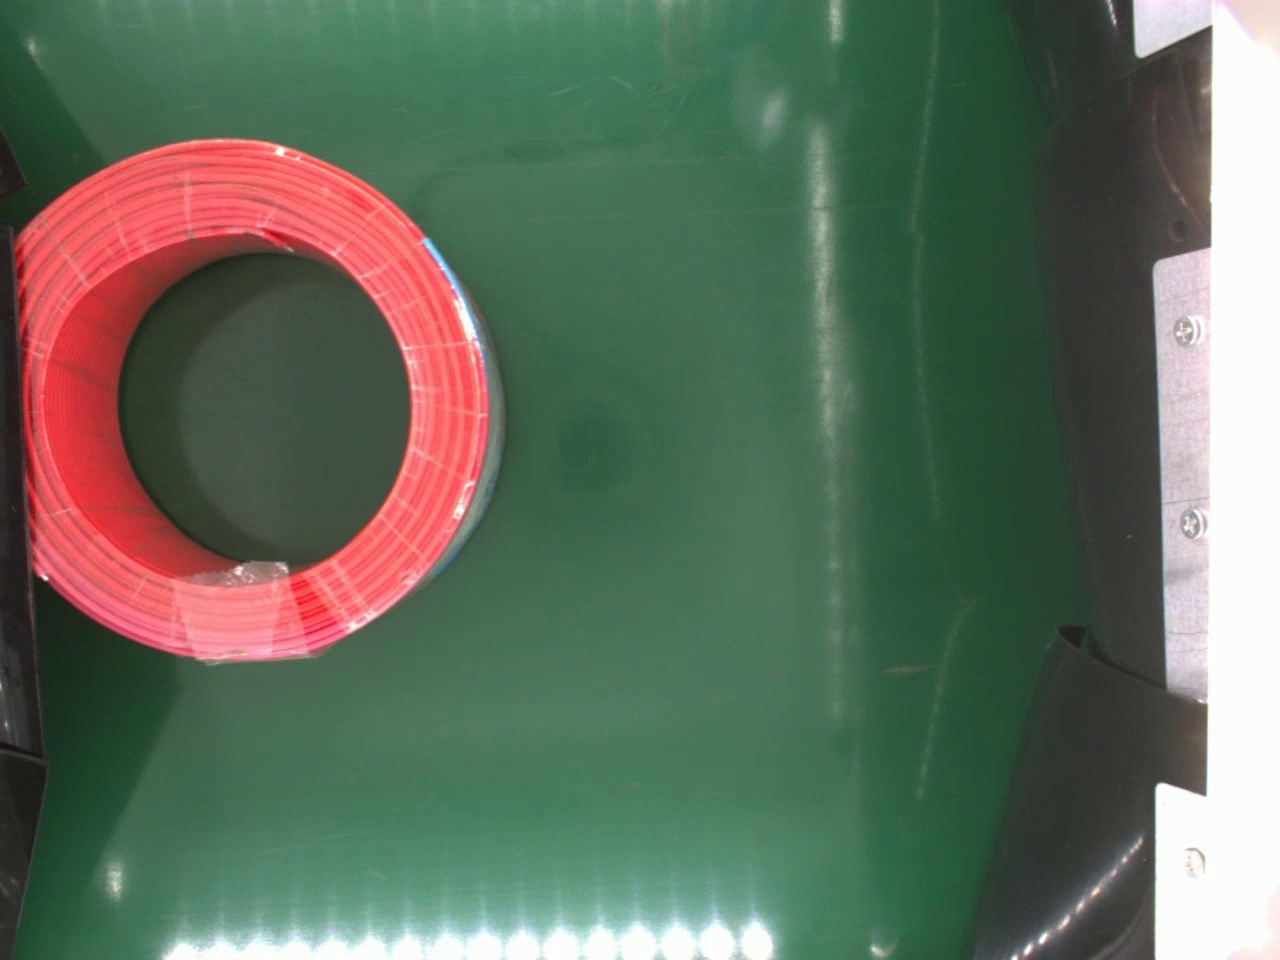red: (4, 138, 507, 667)
